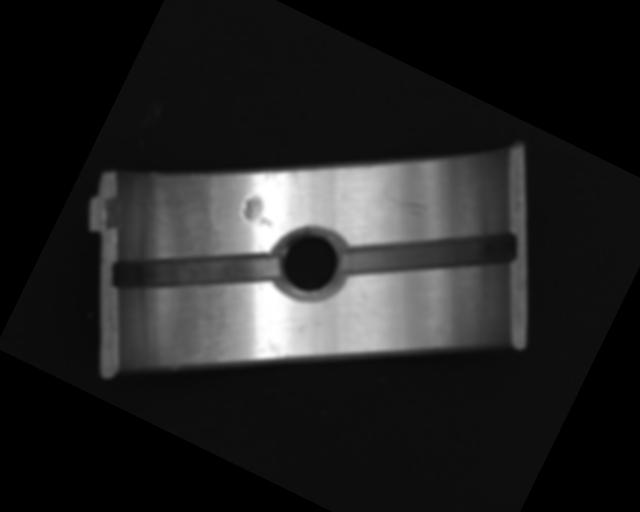bruise: (237, 191, 282, 232)
gap: (337, 171, 520, 335), (106, 194, 284, 347)
hole: (264, 214, 356, 311)
nick: (376, 183, 430, 222)
